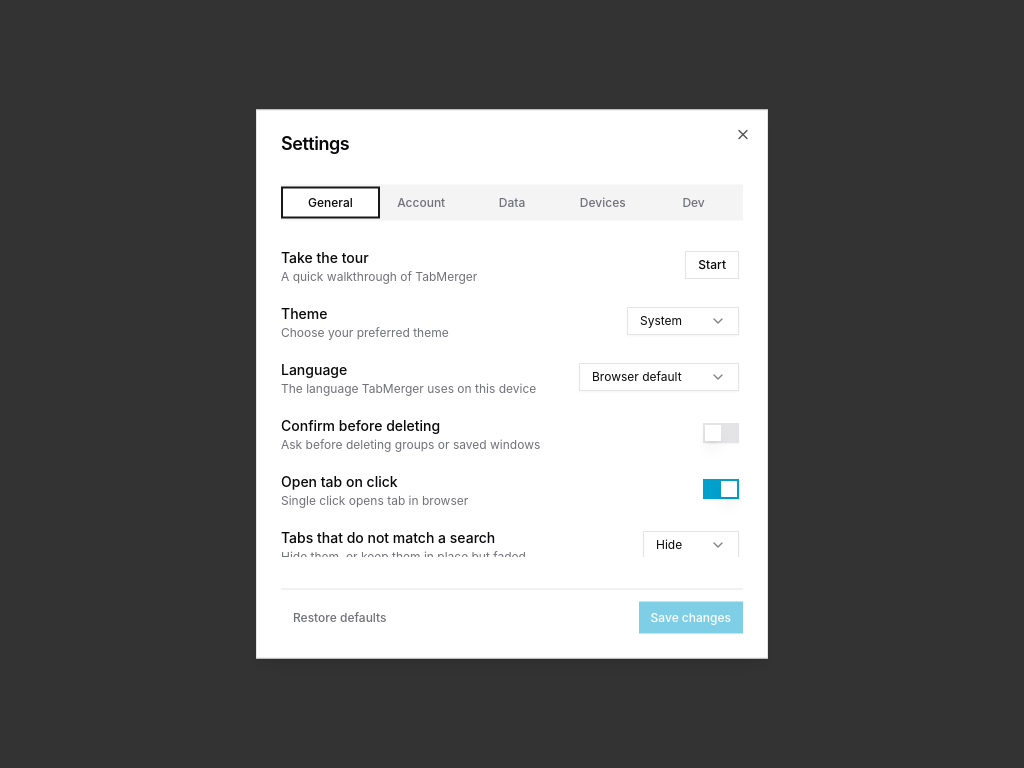
Test case: SettingsModal — billing portal › labels the pro_ai plan with its price marked as US dollars
The width and height of the screenshot is (1024, 768).
Click the tab "Account".
click(421, 202)  # box [376,190,467,214]
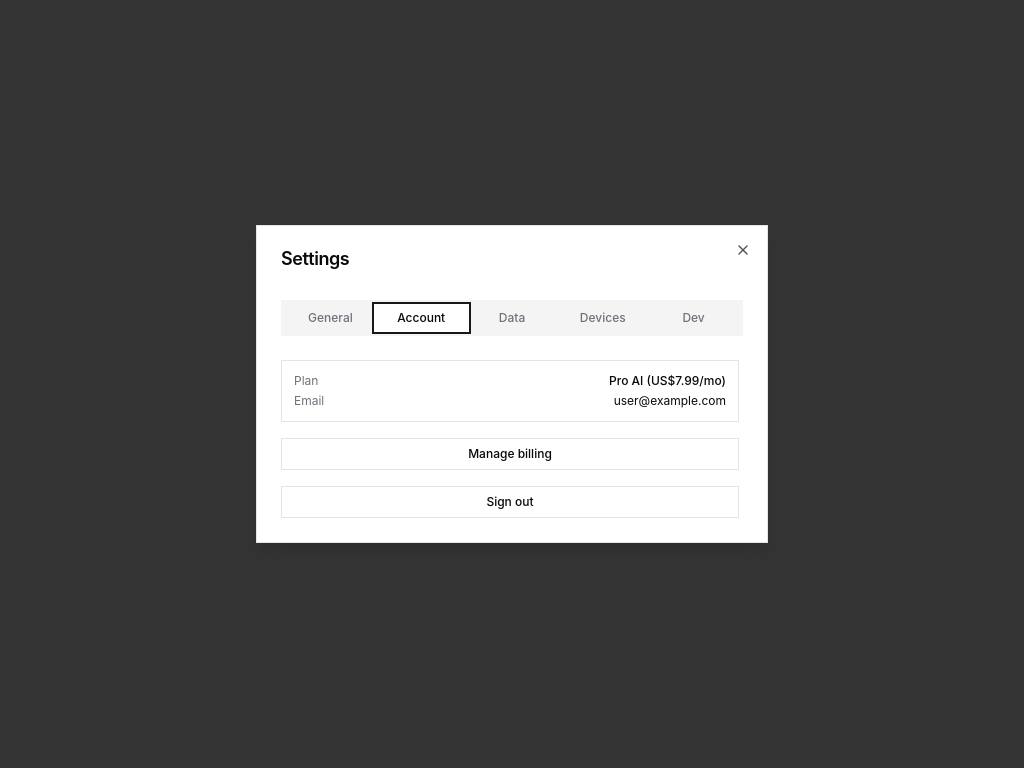
Now the text "Pro AI (US$7.99/mo)" is shown, box [609,373,726,389]
